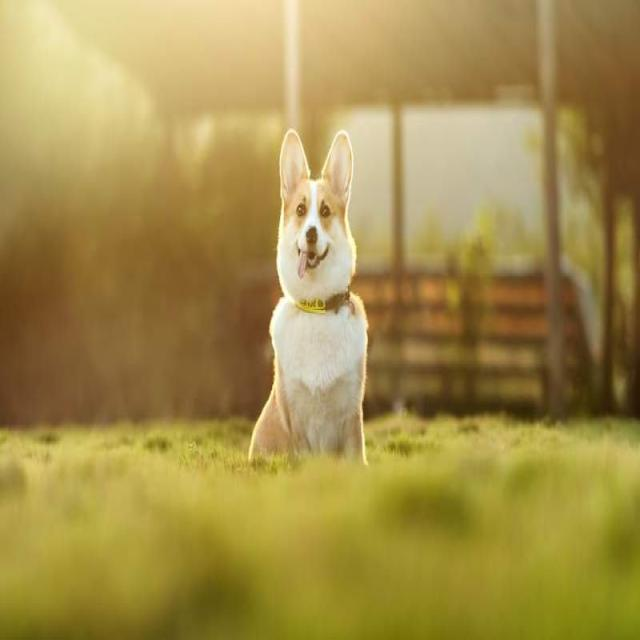Dog: (245, 120, 375, 470)
